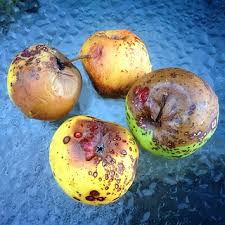damaged_apple: (123, 69, 225, 160), (48, 115, 142, 206), (5, 50, 83, 121), (83, 30, 150, 99)
